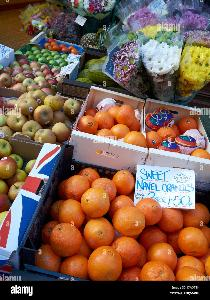apple: (0, 82, 92, 142), (1, 134, 44, 240), (0, 47, 84, 74), (0, 66, 68, 92)
orange: (38, 150, 210, 300), (68, 80, 146, 160), (150, 96, 210, 170)
